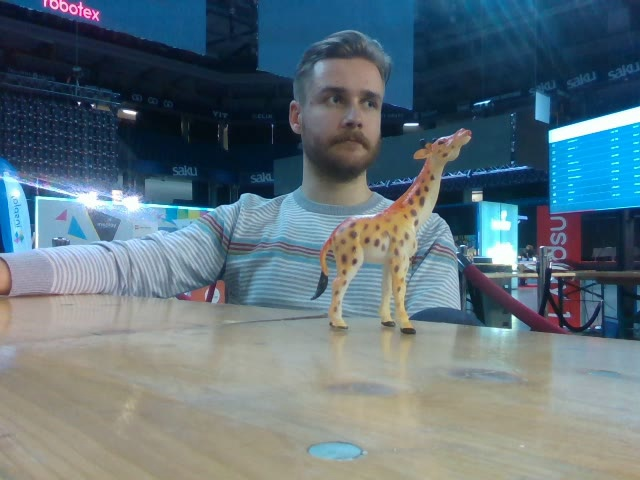toy: (309, 126, 473, 336)
